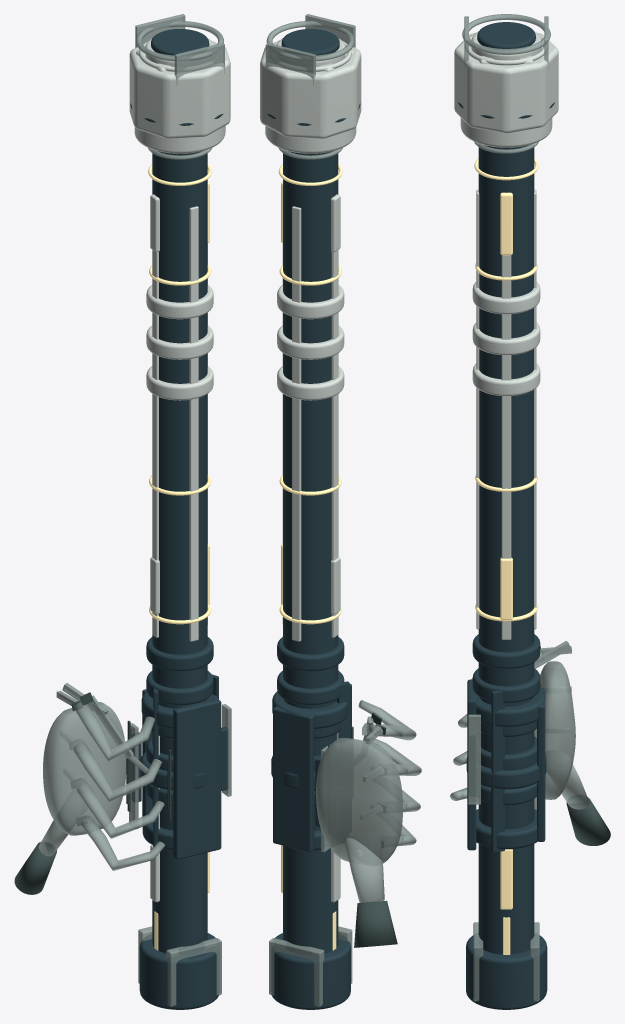
The model's file is hand-rod-onehand-v1-hp-baked.glb.
The picture shows the model from 3 angles, left to right: view 1: azimuth 30°, elevation 25°; view 2: azimuth 150°, elevation 25°; view 3: azimuth 270°, elevation 25°; orthographic projection.
Parts seen in each view (by area): view 1: iron_rod_main_bar, iron_rod_grip_front_pressure_flat, iron_rod_premium_octagonal_strike_collar, right_rod_blueprint_continuous_palm_shell, iron_rod_left_cap, iron_rod_long_scrape_rail_3, iron_rod_long_scrape_rail_2, right_middle_rod_blueprint_three_segment_frontstrap_curl, right_index_rod_blueprint_three_segment_frontstrap_curl, iron_rod_premium_counterweight_flat_b, right_ring_rod_blueprint_three_segment_frontstrap_curl, iron_rod_right_impact_cap (+21 smaller); view 2: iron_rod_main_bar, right_rod_blueprint_continuous_palm_shell, iron_rod_premium_octagonal_strike_collar, iron_rod_grip_backstrap_flat, iron_rod_left_cap, iron_rod_long_scrape_rail_1, right_rod_wrist_skin_bridge, iron_rod_long_scrape_rail_2, right_rod_visible_wrist_sleeve, iron_rod_right_impact_cap, iron_rod_premium_counterweight_flat_a, iron_rod_grip_band_4 (+14 smaller); view 3: iron_rod_main_bar, iron_rod_premium_octagonal_strike_collar, iron_rod_left_cap, right_rod_blueprint_continuous_palm_shell, iron_rod_long_scrape_rail_0, iron_rod_long_scrape_rail_3, iron_rod_right_impact_cap, right_rod_wrist_skin_bridge, right_rod_visible_wrist_sleeve, iron_rod_premium_recessed_strike_face, iron_rod_aesthetic_leather_wrap_swell_top, iron_rod_grip_band_4 (+24 smaller).
Part boxes in pixels (left/top/right/bottom): iron_rod_main_bar: left=152, top=151, right=207, bottom=954; iron_rod_grip_front_pressure_flat: left=173, top=698, right=221, bottom=859; iron_rod_premium_octagonal_strike_collar: left=129, top=42, right=230, bottom=138; right_rod_blueprint_continuous_palm_shell: left=43, top=702, right=126, bottom=835; iron_rod_left_cap: left=139, top=933, right=219, bottom=1009; iron_rod_long_scrape_rail_3: left=189, top=206, right=198, bottom=641; iron_rod_long_scrape_rail_2: left=152, top=250, right=158, bottom=637; right_middle_rod_blueprint_three_segment_frontstrap_curl: left=73, top=739, right=161, bottom=802; right_index_rod_blueprint_three_segment_frontstrap_curl: left=75, top=700, right=154, bottom=761; iron_rod_premium_counterweight_flat_b: left=166, top=938, right=221, bottom=1006; right_ring_rod_blueprint_three_segment_frontstrap_curl: left=75, top=778, right=164, bottom=838; iron_rod_right_impact_cap: left=134, top=58, right=225, bottom=153; iron_rod_main_bar: left=283, top=151, right=338, bottom=954; right_rod_blueprint_continuous_palm_shell: left=316, top=738, right=402, bottom=865; iron_rod_premium_octagonal_strike_collar: left=260, top=42, right=361, bottom=138; iron_rod_grip_backstrap_flat: left=273, top=706, right=314, bottom=851; iron_rod_left_cap: left=271, top=933, right=350, bottom=1009; iron_rod_long_scrape_rail_1: left=292, top=206, right=301, bottom=641; right_rod_wrist_skin_bridge: left=344, top=832, right=384, bottom=902; iron_rod_long_scrape_rail_2: left=331, top=250, right=338, bottom=637; right_rod_visible_wrist_sleeve: left=354, top=900, right=397, bottom=947; iron_rod_right_impact_cap: left=265, top=58, right=356, bottom=153; iron_rod_premium_counterweight_flat_a: left=269, top=938, right=324, bottom=1006; iron_rod_grip_band_4: left=277, top=637, right=344, bottom=671; iron_rod_main_bar: left=478, top=145, right=534, bottom=954; iron_rod_premium_octagonal_strike_collar: left=454, top=32, right=558, bottom=133; iron_rod_left_cap: left=466, top=933, right=547, bottom=1009; right_rod_blueprint_continuous_palm_shell: left=540, top=661, right=575, bottom=799; iron_rod_long_scrape_rail_0: left=501, top=255, right=511, bottom=639; iron_rod_long_scrape_rail_3: left=476, top=189, right=479, bottom=629; iron_rod_right_impact_cap: left=460, top=46, right=552, bottom=147; right_rod_wrist_skin_bridge: left=545, top=750, right=589, bottom=809; right_rod_visible_wrist_sleeve: left=566, top=797, right=610, bottom=845; iron_rod_premium_recessed_strike_face: left=477, top=22, right=535, bottom=48; iron_rod_aesthetic_leather_wrap_swell_top: left=476, top=689, right=545, bottom=726; iron_rod_grip_band_4: left=472, top=634, right=540, bottom=668.
Size of the model in its own units: 0.5234 by 2.83 by 0.4273.
